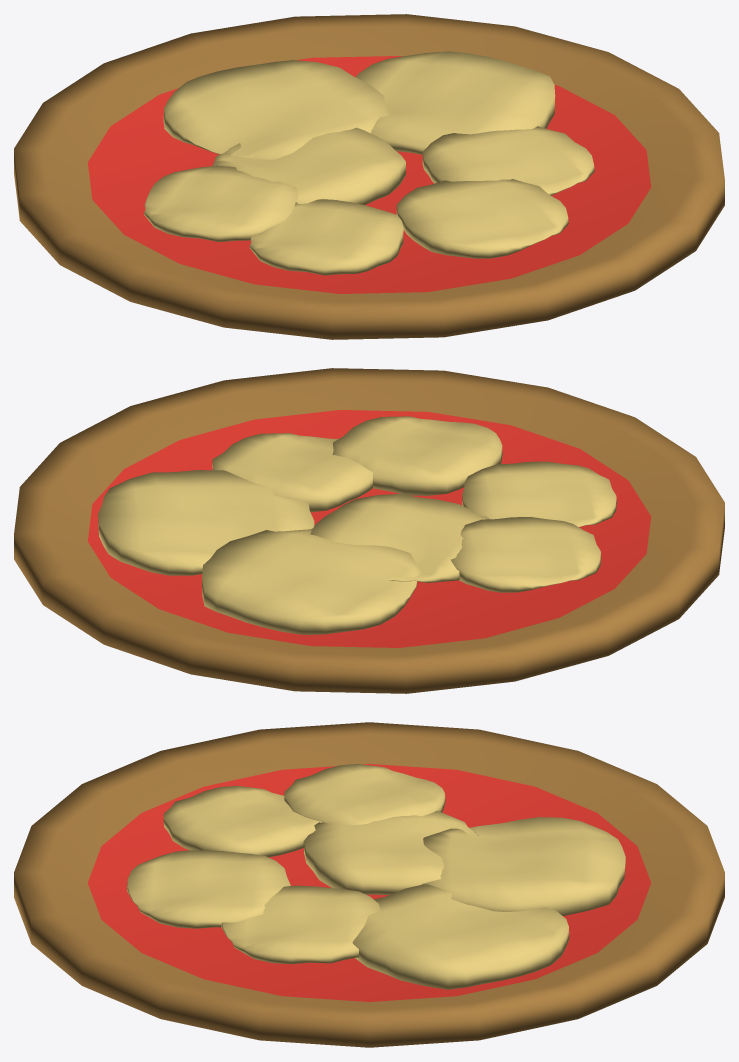
Rendered from CookedPizza(Tomato and Cheese).glb.
The picture shows the model from 3 angles, top to bottom: view 1: azimuth 30°, elevation 25°; view 2: azimuth 150°, elevation 25°; view 3: azimuth 270°, elevation 25°; orthographic projection.
Parts seen in each view (by area): view 1: Plane.028; view 2: Plane.028; view 3: Plane.028.
Boxes of the visible parts, box(x1,y1,x2,y2) form: Plane.028: box(14, 14, 724, 339); Plane.028: box(14, 368, 724, 693); Plane.028: box(14, 722, 724, 1047).
Bounding box in the file's own units: 0.8833 × 0.049 × 0.8833.
